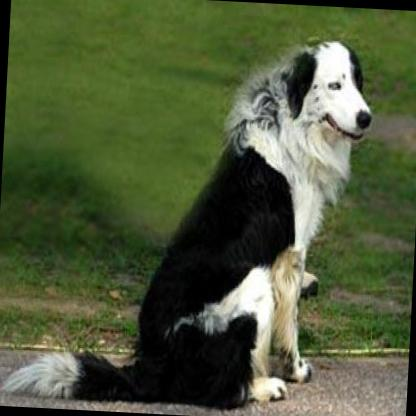Border_collie: (0, 14, 377, 416)
